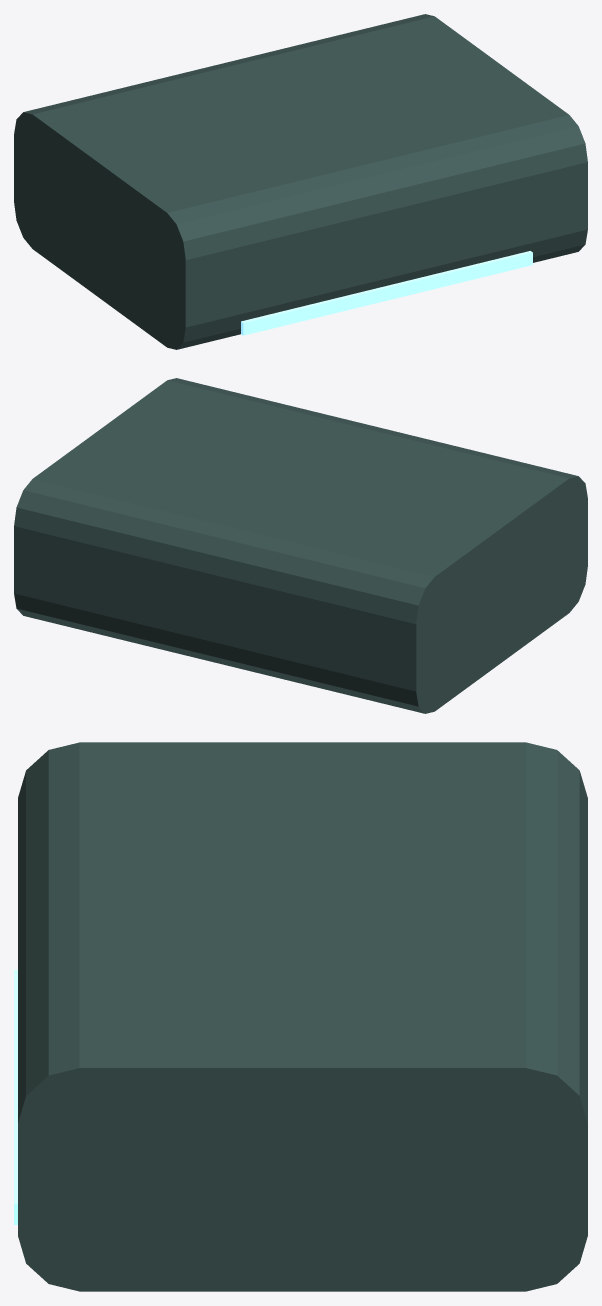
The model's file is Door_Lintel.gltf.
The picture shows the model from 3 angles, top to bottom: view 1: azimuth 30°, elevation 25°; view 2: azimuth 150°, elevation 25°; view 3: azimuth 270°, elevation 25°; orthographic projection. The views are drawn at different scales.
Visible parts, largest first — view 1: Door_Lintel_baked; view 2: Door_Lintel_baked; view 3: Door_Lintel_baked.
Boxes of the visible parts, <box> form: Door_Lintel_baked: <box>14,14,587,349</box>; Door_Lintel_baked: <box>14,378,587,713</box>; Door_Lintel_baked: <box>14,742,587,1291</box>.
Size of the model in its own units: 1 by 0.32 by 0.745.
